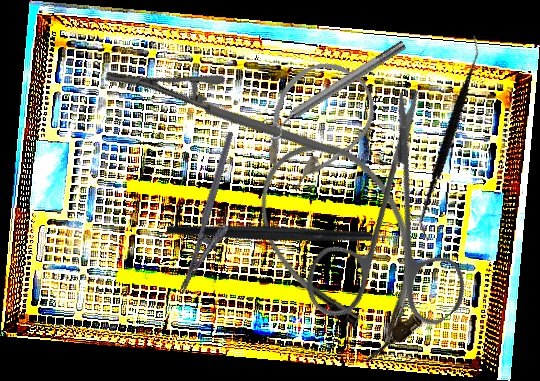Cannula: (235, 118, 456, 377), (239, 45, 391, 206)
Chopper: (165, 139, 413, 319)
Fixation Ring: (259, 33, 412, 144)
Iris Scissors: (243, 83, 540, 378)
Needle Holder: (101, 7, 340, 222), (177, 130, 257, 301)
Spatula Surgical: (375, 33, 526, 243)
